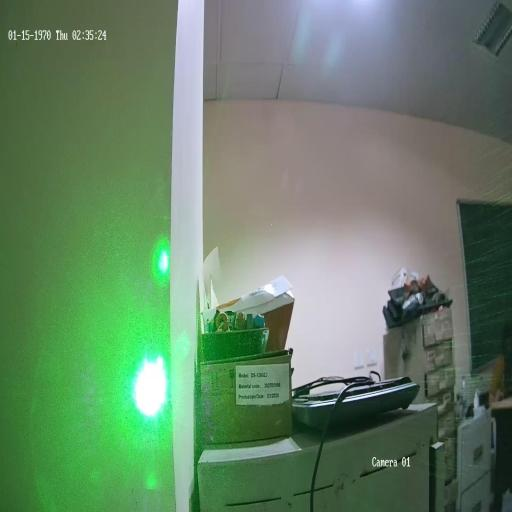laser: (128, 344, 171, 425)
